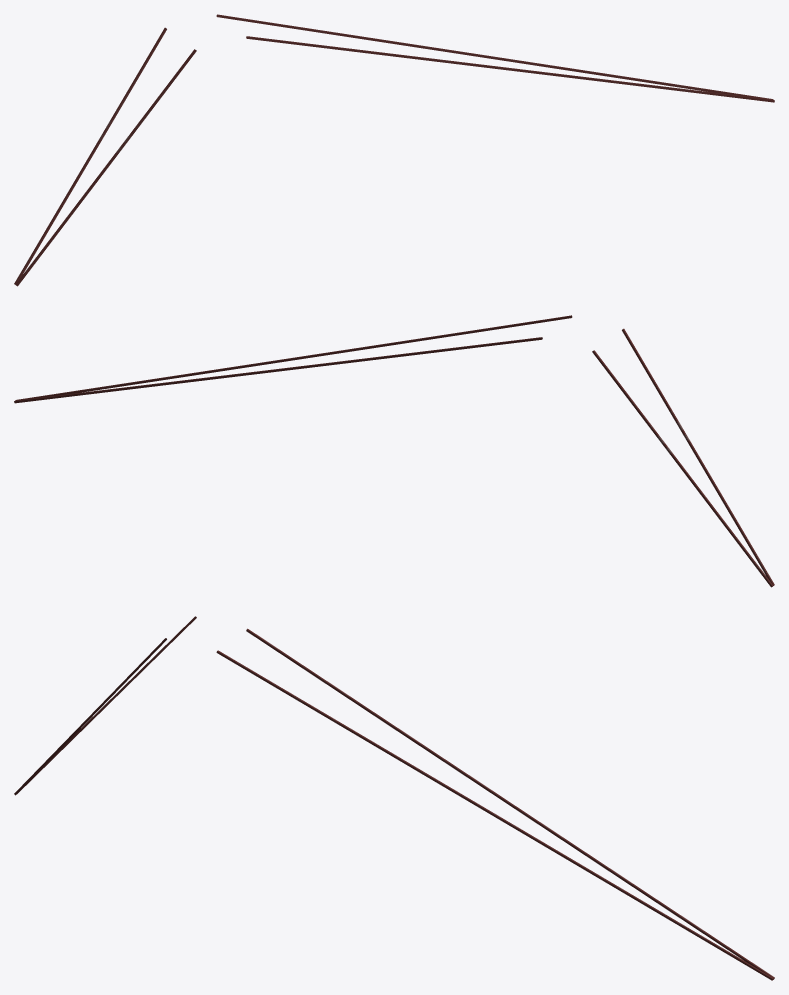
Rendered from CS_crane_04.FBX.
3 renders of one model, top to bottom at view 1: azimuth 30°, elevation 25°; view 2: azimuth 150°, elevation 25°; view 3: azimuth 330°, elevation 25°, orthographic.
Visible parts, largest first — view 1: SM_crane_04; view 2: SM_crane_04; view 3: SM_crane_04.
Part boxes in pixels (left/top/right/bottom): SM_crane_04: left=14, top=14, right=774, bottom=286; SM_crane_04: left=14, top=315, right=774, bottom=587; SM_crane_04: left=14, top=616, right=774, bottom=980.
Bounding box in the file's own units: 2063 × 145 × 541.
